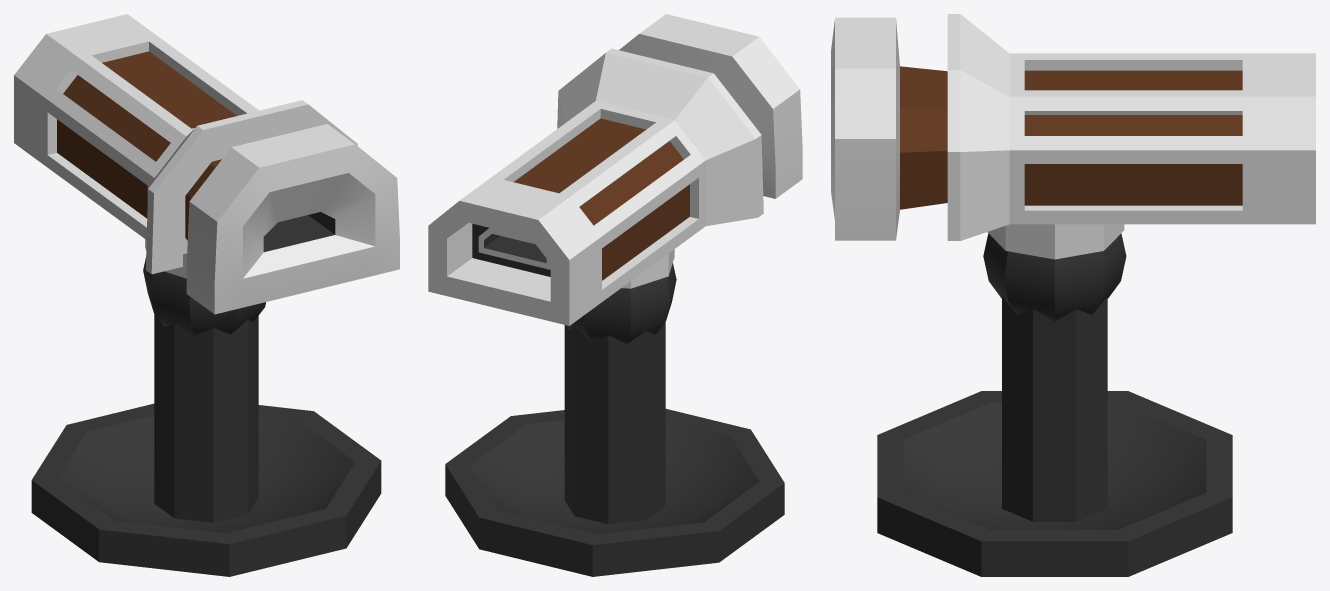
The model's file is Cannon.fbx.
The picture shows the model from 3 angles, left to right: view 1: azimuth 30°, elevation 25°; view 2: azimuth 150°, elevation 25°; view 3: azimuth 270°, elevation 25°; orthographic projection. The views are drawn at different scales.
Visible parts, largest first — view 1: Cannon_Body, Cannon_Base, Cannon_Shaft; view 2: Cannon_Body, Cannon_Base, Cannon_Shaft; view 3: Cannon_Body, Cannon_Base, Cannon_Shaft.
Boxes of the visible parts, <box> form: Cannon_Body: <box>14,14,399,314</box>; Cannon_Base: <box>31,403,381,576</box>; Cannon_Shaft: <box>143,258,265,522</box>; Cannon_Body: <box>428,14,802,325</box>; Cannon_Base: <box>445,409,784,576</box>; Cannon_Shaft: <box>564,263,676,524</box>; Cannon_Body: <box>831,14,1315,259</box>; Cannon_Base: <box>877,391,1232,576</box>; Cannon_Shaft: <box>983,233,1126,521</box>.
Bounding box in the file's own units: 1.34 × 1.83 × 1.91.
